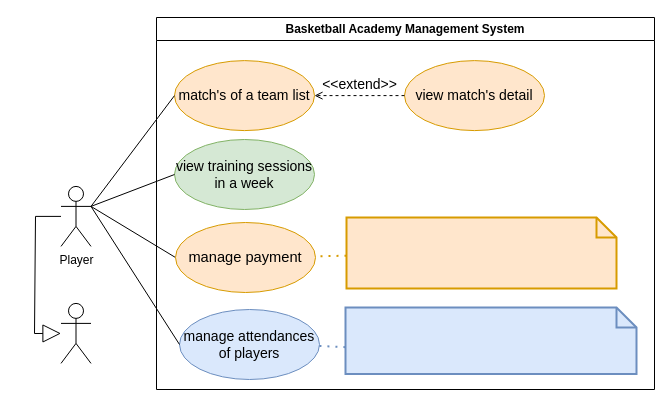
Image size: 672x407. Some labels were removed from this diagram. The centre of each missing label's shape, as x and y in pixels:
"can view payment list itself, make payment, view history payment" belongs at (x=481, y=252).
"Registered User" belongs at (x=75, y=332).
"view attendance for a player in a training session" belongs at (x=490, y=340).
